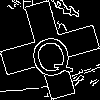Q: (25, 25, 76, 83)
